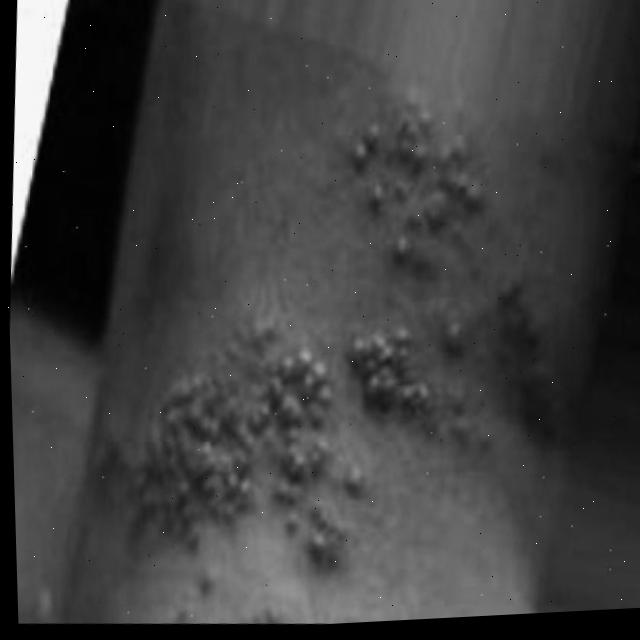Shingles: (126, 312, 374, 581), (346, 97, 496, 277), (345, 308, 486, 425)
